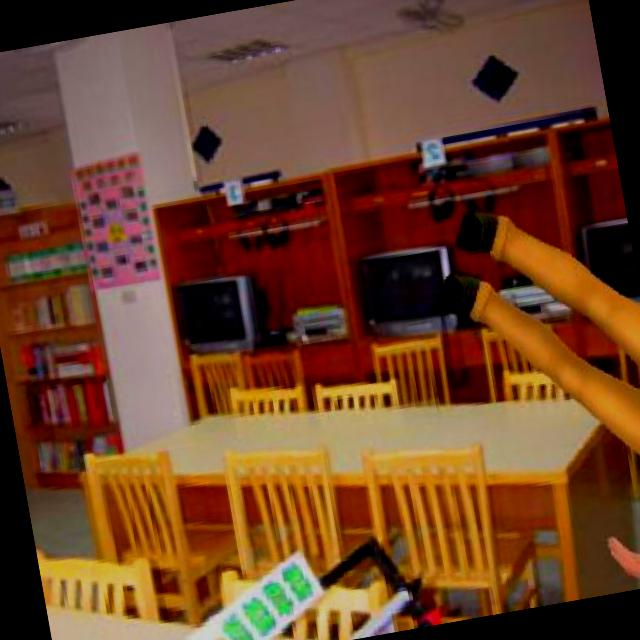Person: (411, 175, 640, 616)
